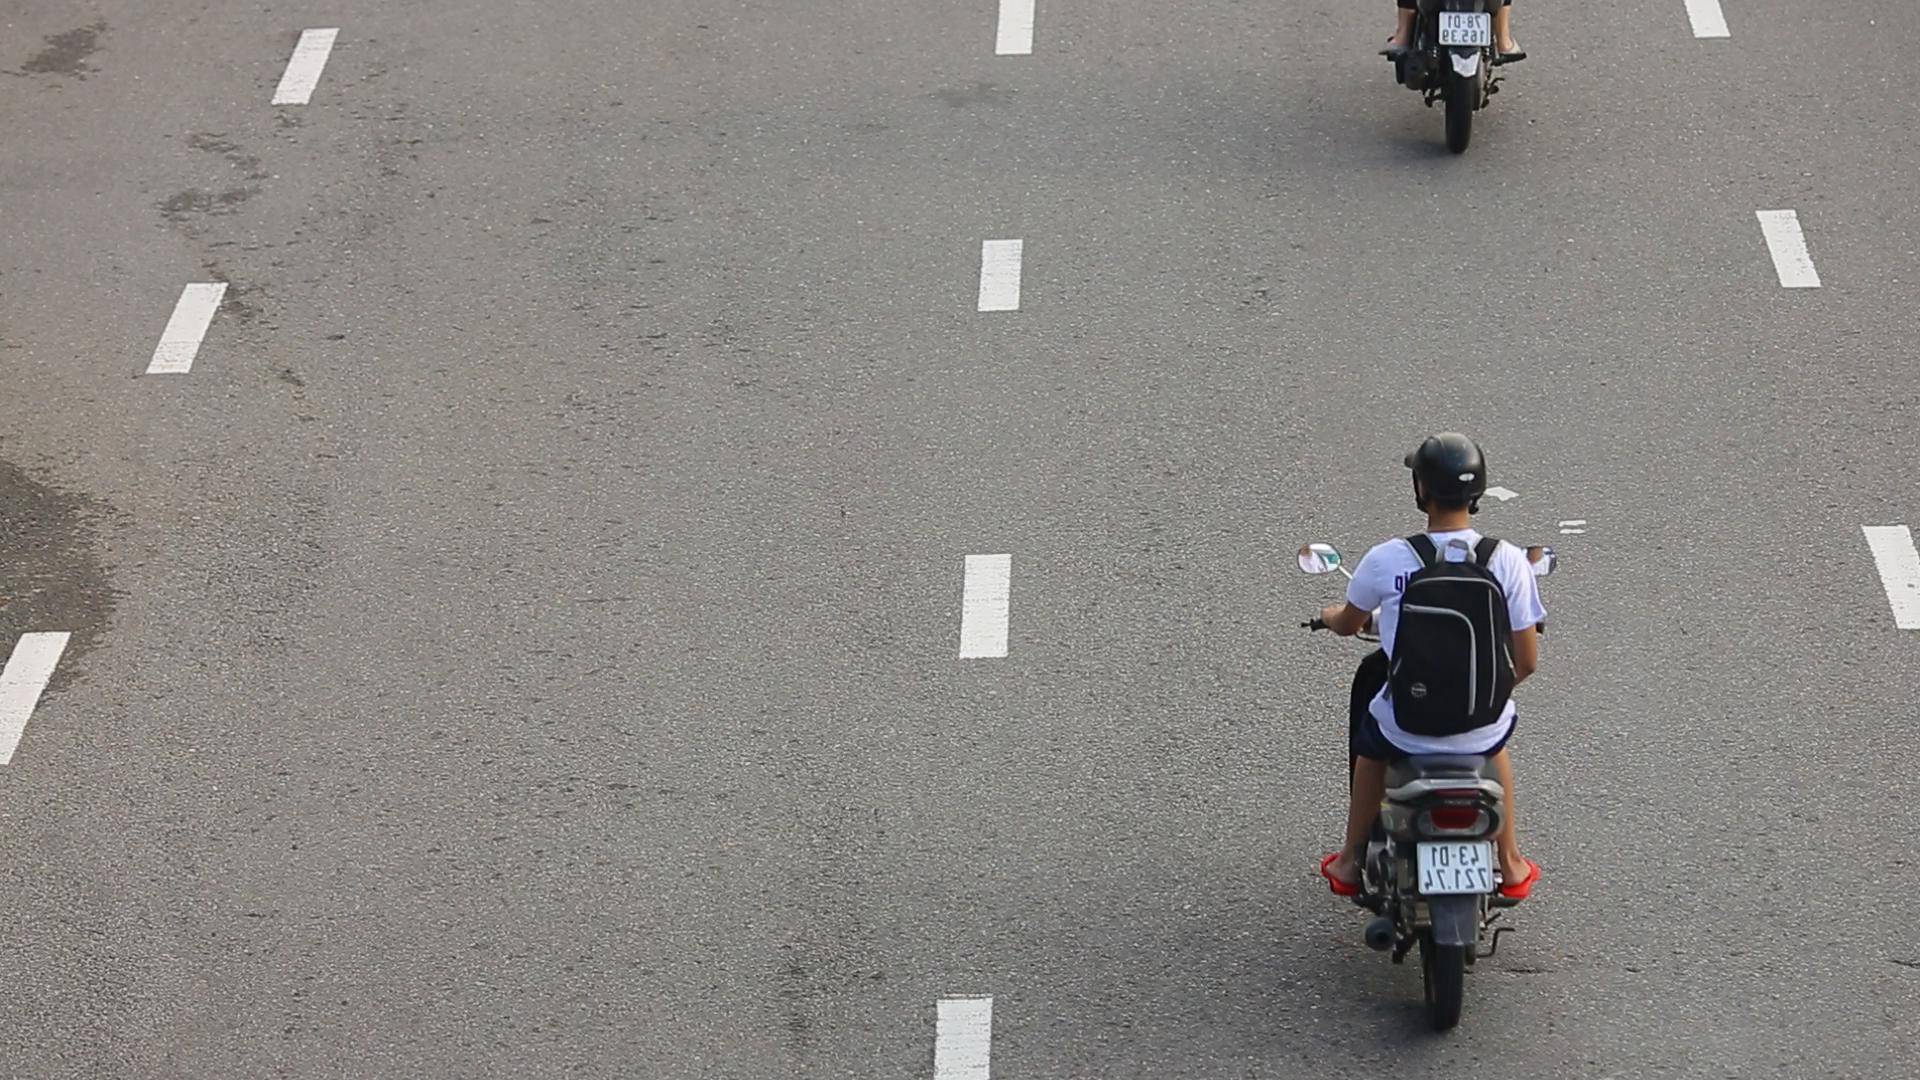motobike: (1303, 414, 1573, 1019)
